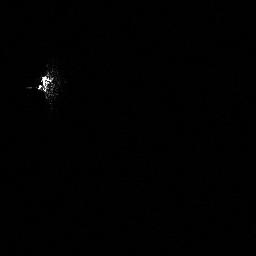ship: (25, 67, 63, 106)
